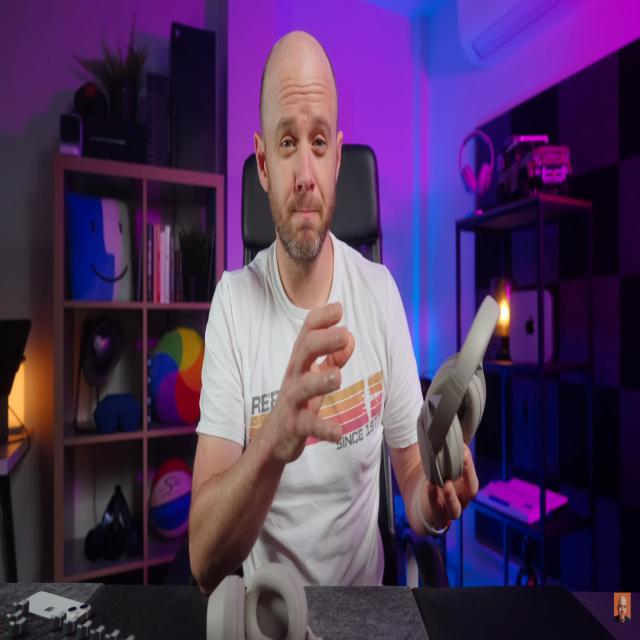Headphone: (415, 292, 500, 489), (205, 559, 311, 640)
